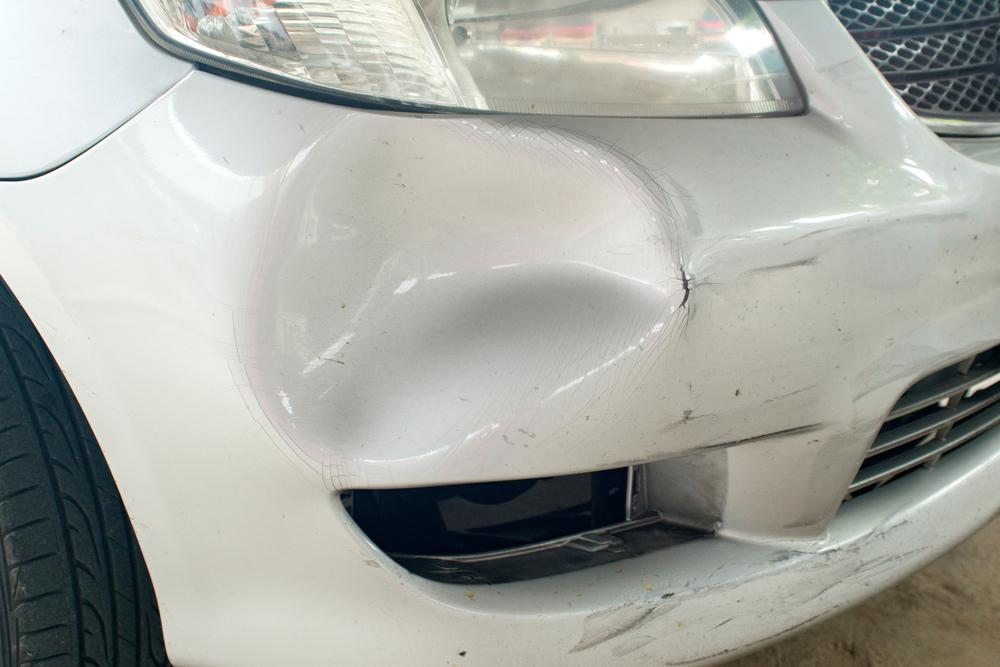dent: (245, 119, 678, 463)
scratch: (568, 516, 934, 660)
